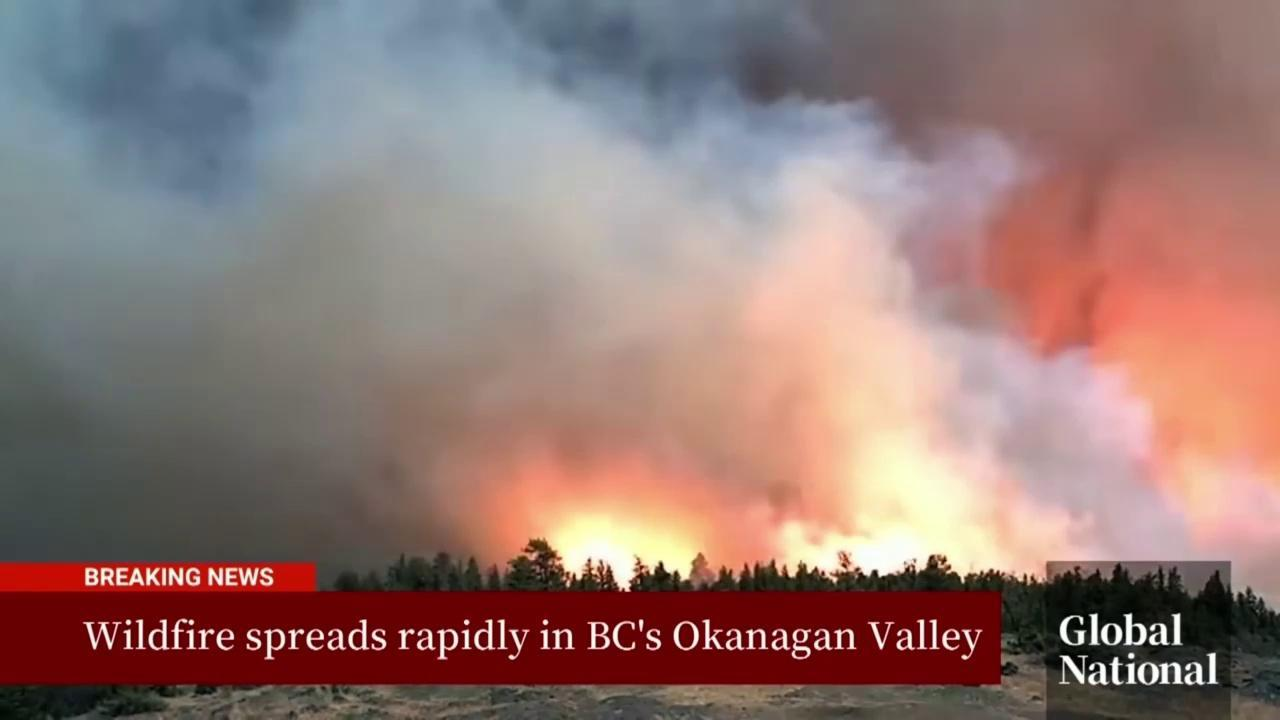fire: (543, 510, 699, 594), (791, 515, 932, 584)
smoke: (0, 0, 1280, 615)
